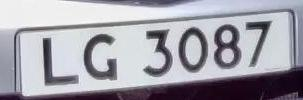0: (172, 21, 210, 79)
3: (137, 22, 175, 84)
7: (240, 14, 276, 73)
8: (209, 18, 245, 74)
G: (79, 27, 124, 89)
L: (37, 28, 83, 93)
